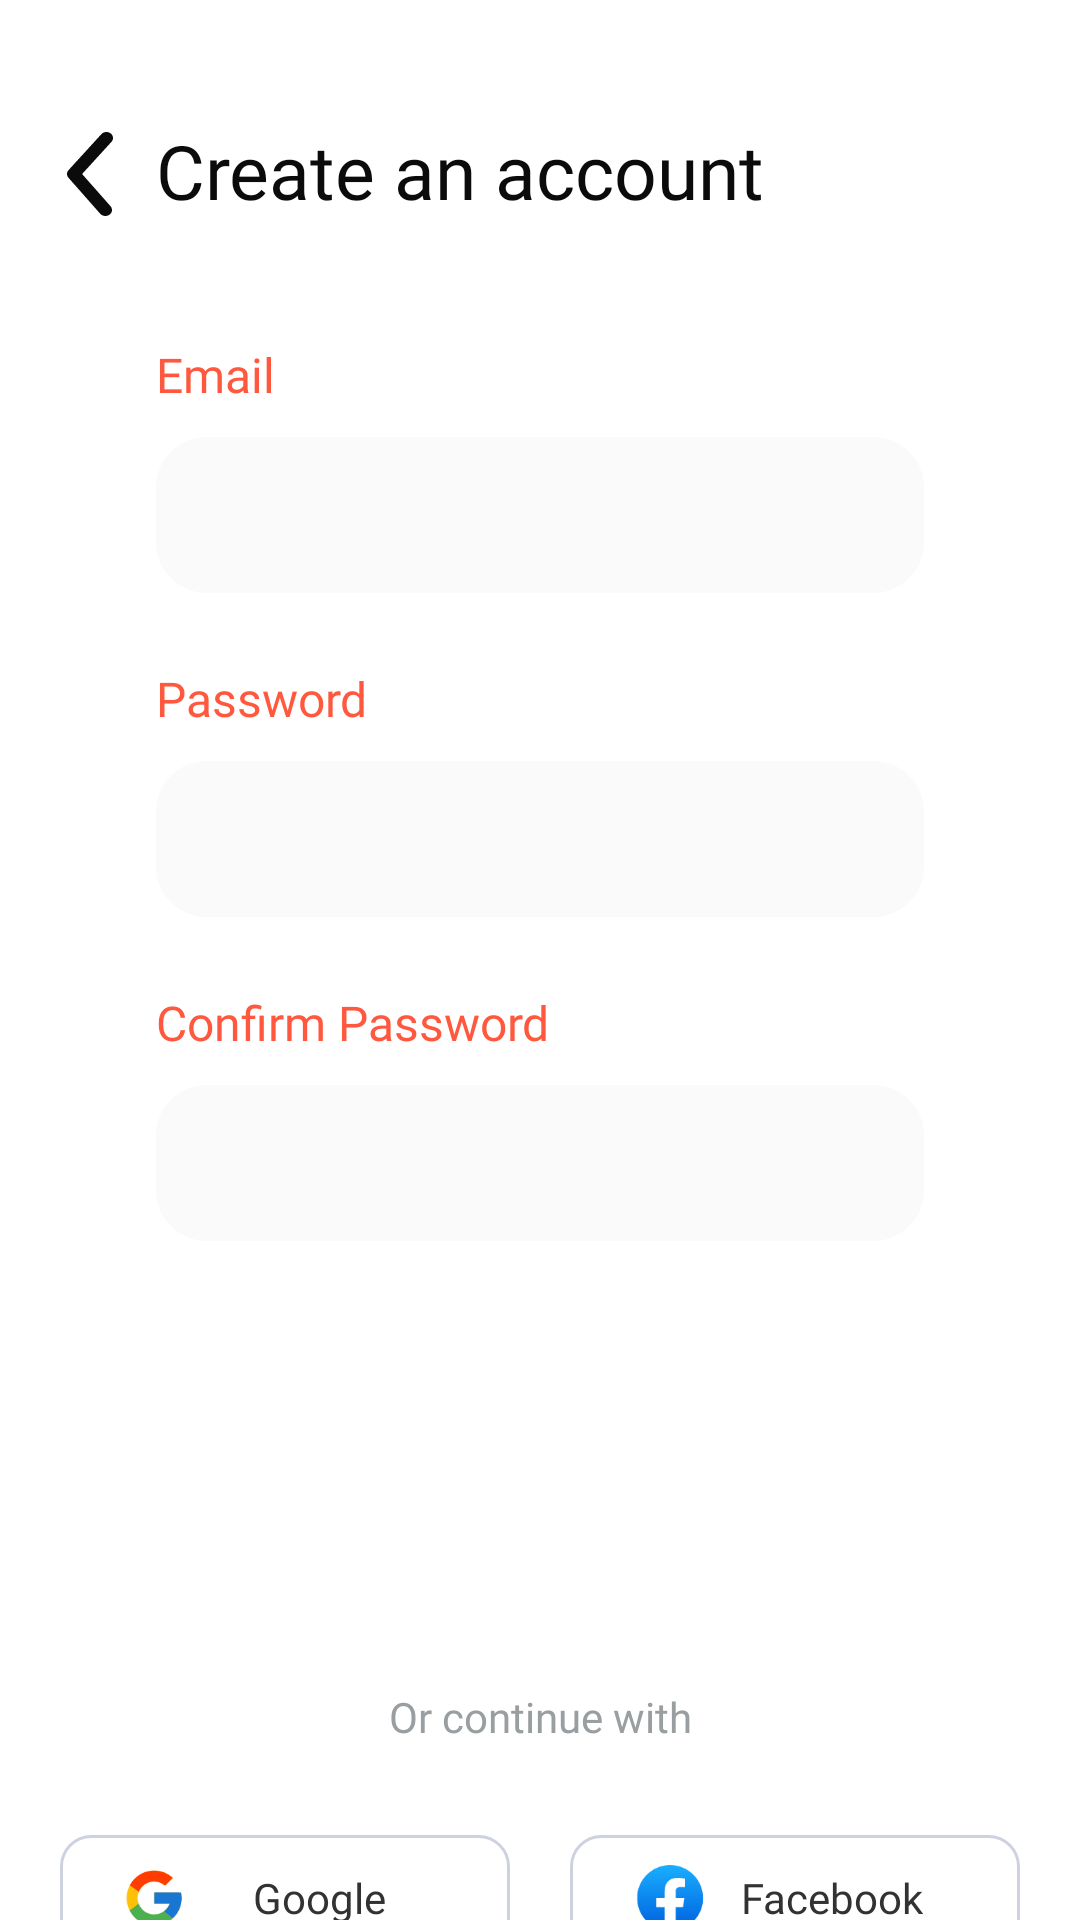

Screen size 1080px×1920px. Icon name, then its box in pixels as (left=x1, top=y1, right=x2, bottom=y2):
vector arrow: (left=67, top=132, right=113, bottom=216)
